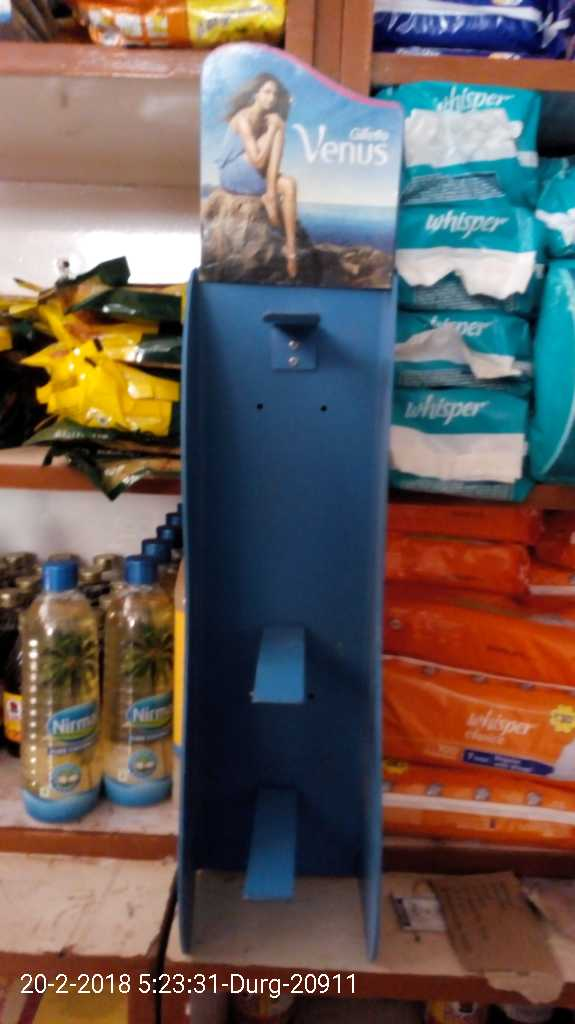pharmacy: (383, 658, 575, 782), (396, 381, 534, 501), (410, 194, 537, 313), (411, 81, 544, 193), (391, 306, 529, 378)
